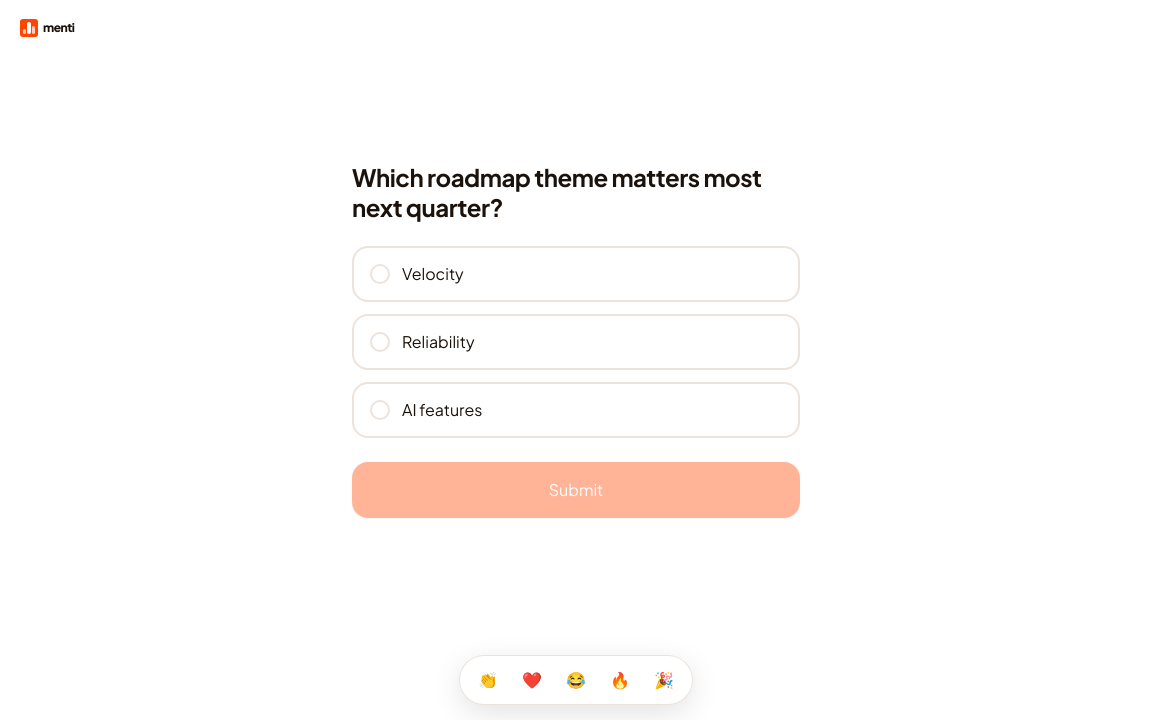
Test case: VotePage › renders the current multiple-choice question and thanks the participant after voting
Expected: the heading "Which roadmap theme matters most next quarter?" is shown, [352,162,800,222]
Click the radio button labelled "Velocity".
click(433, 274)  # box [352,246,800,302]
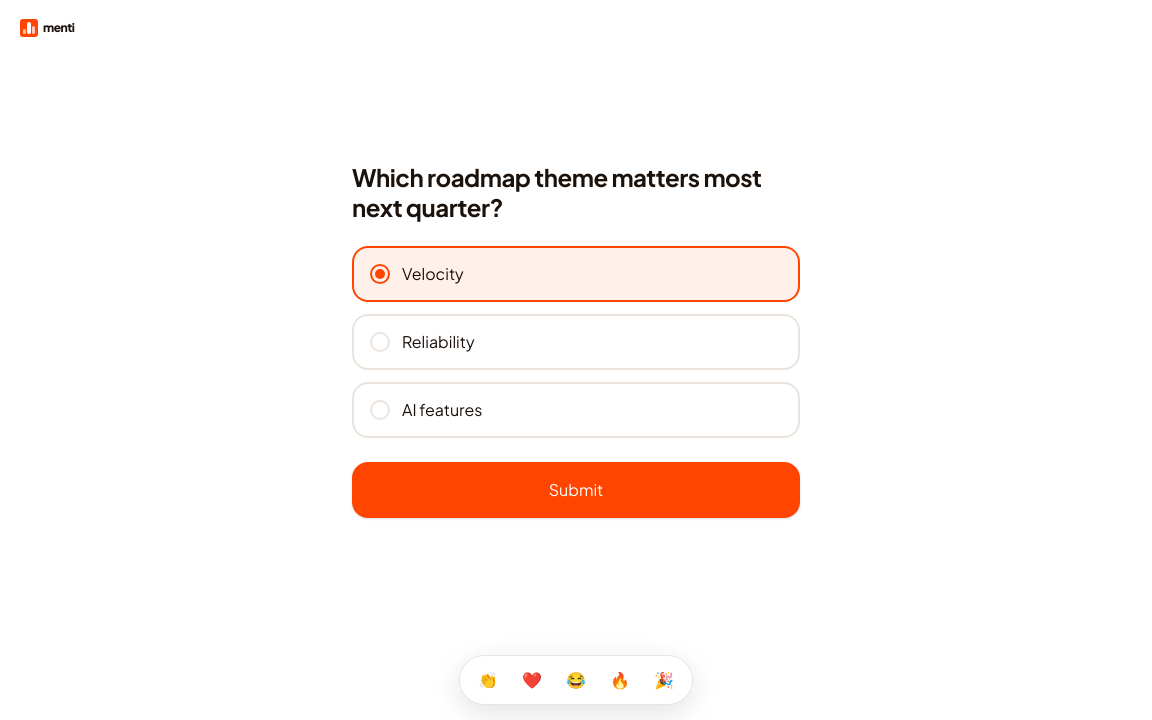
Click the button "Submit".
click(576, 490)  # box [352,462,800,518]
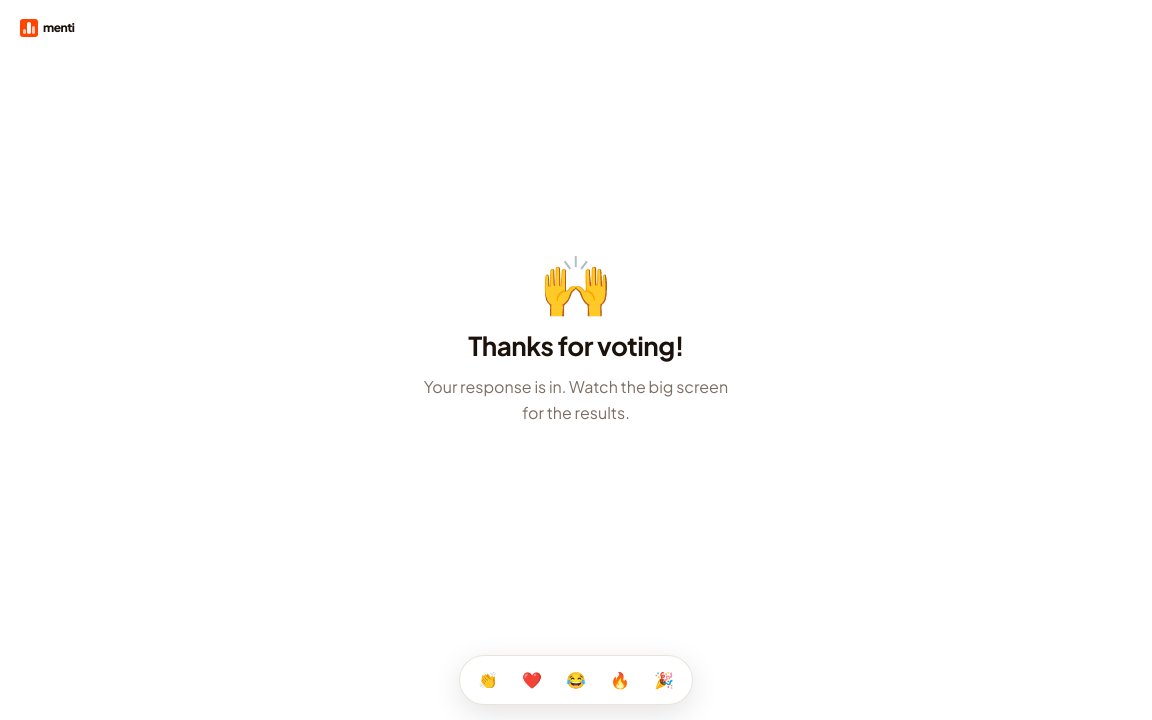
Now the heading "Thanks for voting!" is shown, box [468,329,684,362]
